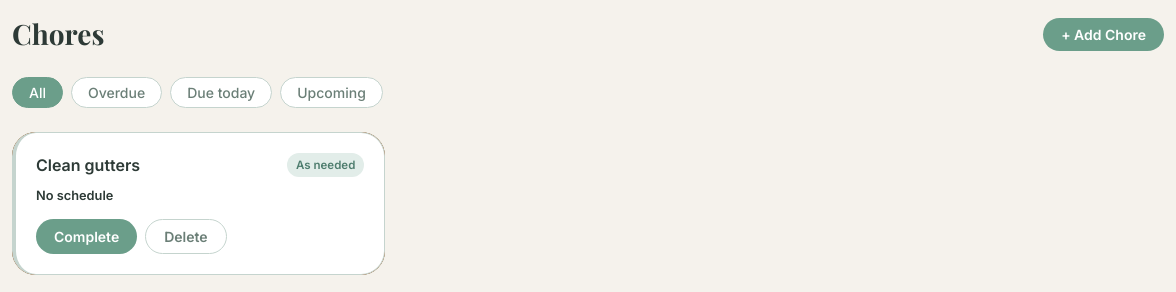
Test: Chores › filter tabs › hides As-needed chore under Overdue tab
The image size is (1176, 292).
Check: the text "Clean gutters" is shown, box [36,153,140,178]
What coordinates should you click on to do the following:
click the button "Overdue"
I would click on:
 (117, 92)
Its box is [71,77,162,108].
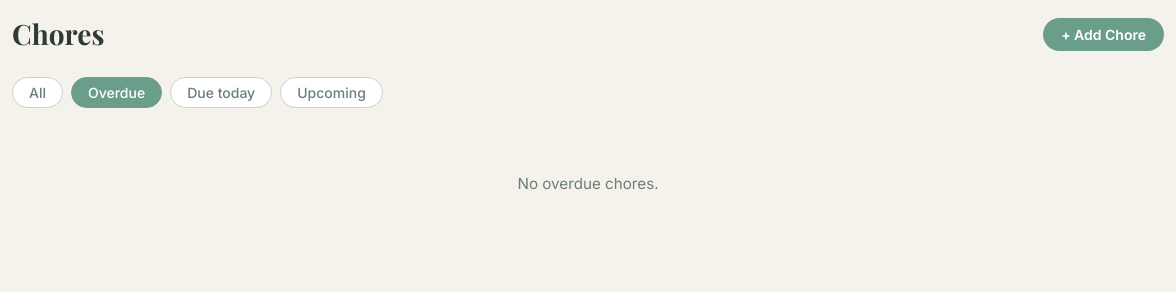
Check: the text "Clean gutters" is gone
